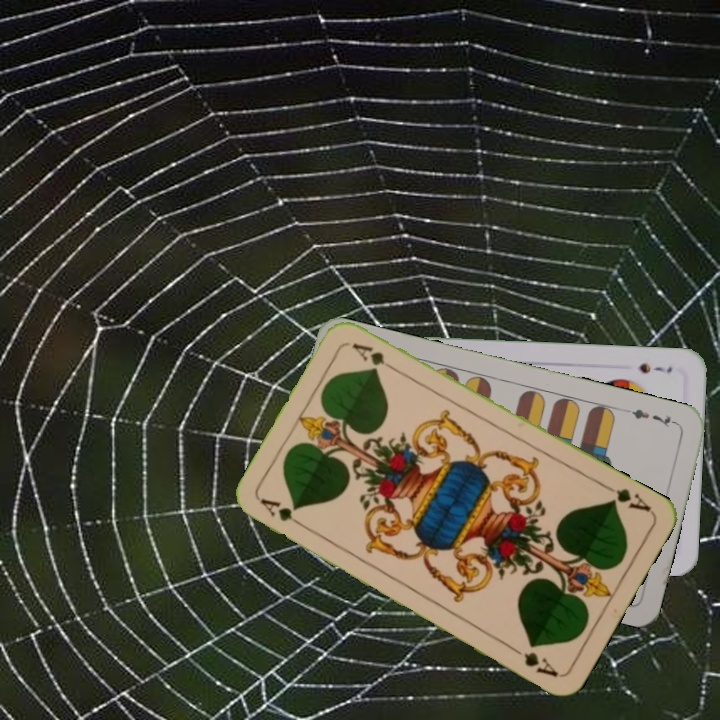E7: (622, 405, 680, 430)
GA: (256, 494, 310, 532), (599, 480, 654, 515)
S7: (635, 359, 675, 376)
